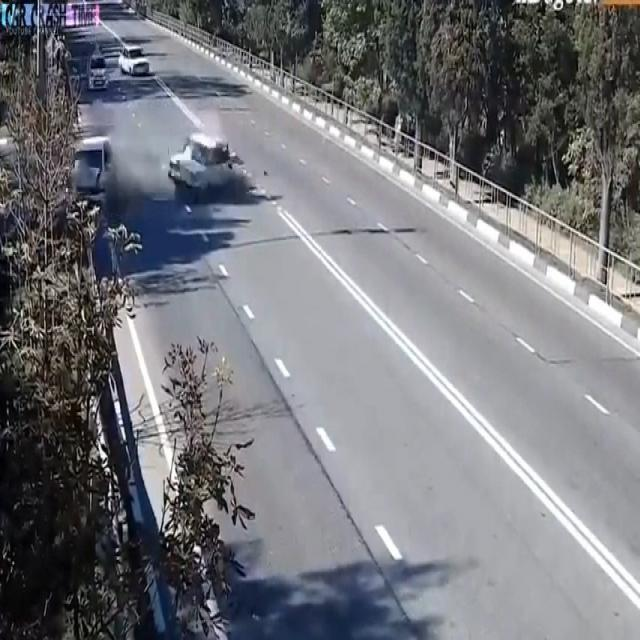Accident: (78, 109, 251, 247)
